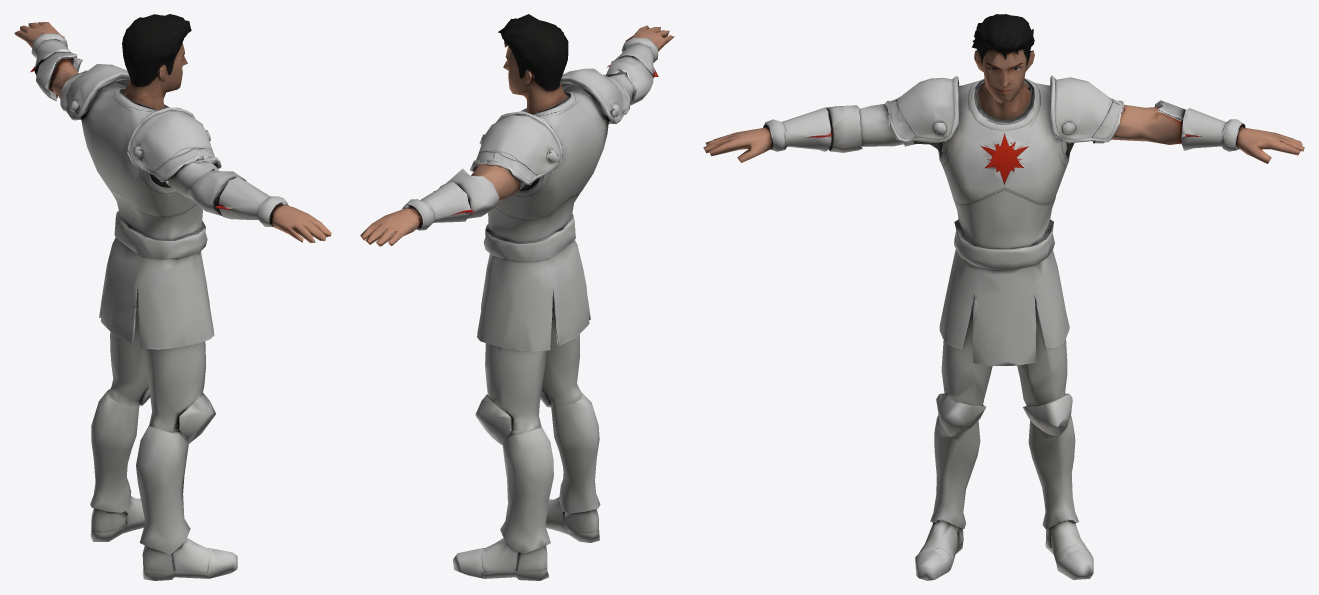
Rendered from tripo_convert_250c9f66-5402-4be8-869d-b43b500ae410.fbx.
3 views of the same model, side by side, from view 1: azimuth 30°, elevation 25°; view 2: azimuth 150°, elevation 25°; view 3: azimuth 270°, elevation 25° (orthographic). The views are drawn at different scales.
Parts seen in each view (by area): view 1: tripo_node_250c9f66; view 2: tripo_node_250c9f66; view 3: tripo_node_250c9f66.
Boxes of the visible parts, <box> form: tripo_node_250c9f66: <box>14,14,331,580</box>; tripo_node_250c9f66: <box>360,14,674,580</box>; tripo_node_250c9f66: <box>703,14,1304,580</box>.
Bounding box in the file's own units: 0.1939 × 0.9787 × 0.9789.
